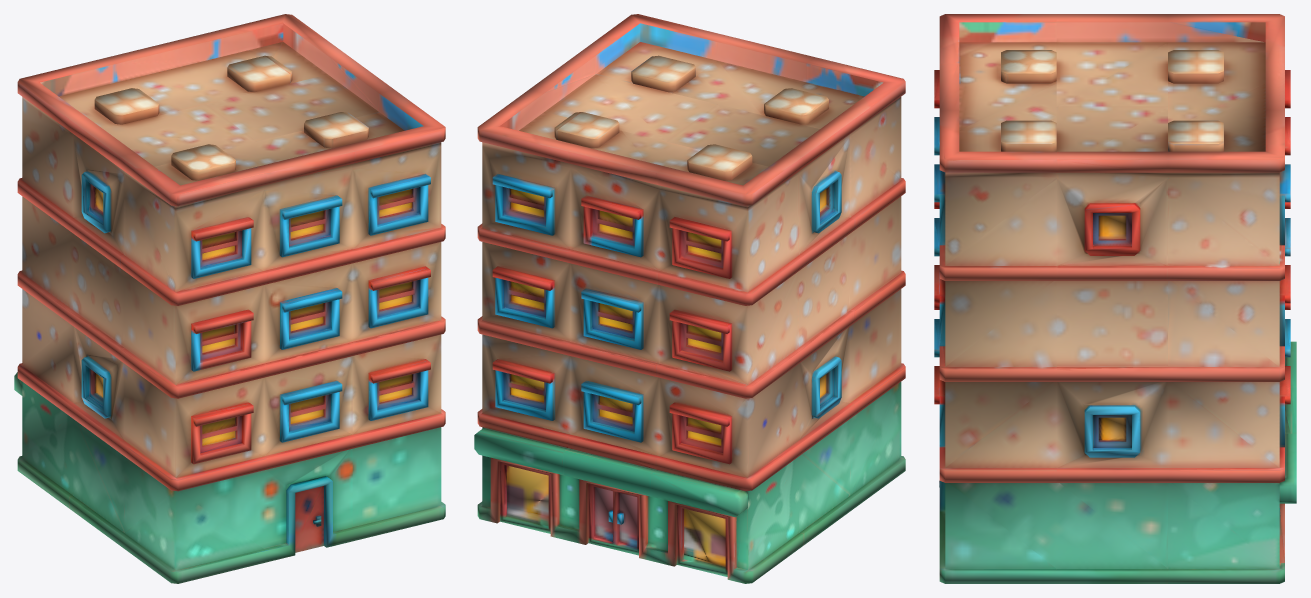
File: building_3.glb
The picture shows the model from 3 angles, left to right: view 1: azimuth 30°, elevation 25°; view 2: azimuth 150°, elevation 25°; view 3: azimuth 270°, elevation 25°; orthographic projection. The views are drawn at different scales.
Parts seen in each view (by area): view 1: Mesh_0.001; view 2: Mesh_0.001; view 3: Mesh_0.001.
Boxes of the visible parts, x1,y1,x2,y2 form: Mesh_0.001: [14, 14, 445, 583]; Mesh_0.001: [474, 14, 905, 583]; Mesh_0.001: [934, 14, 1296, 583].
Size of the model in its own units: 8.86 by 12 by 9.3.
Materials: 1 (1 with a texture image).
